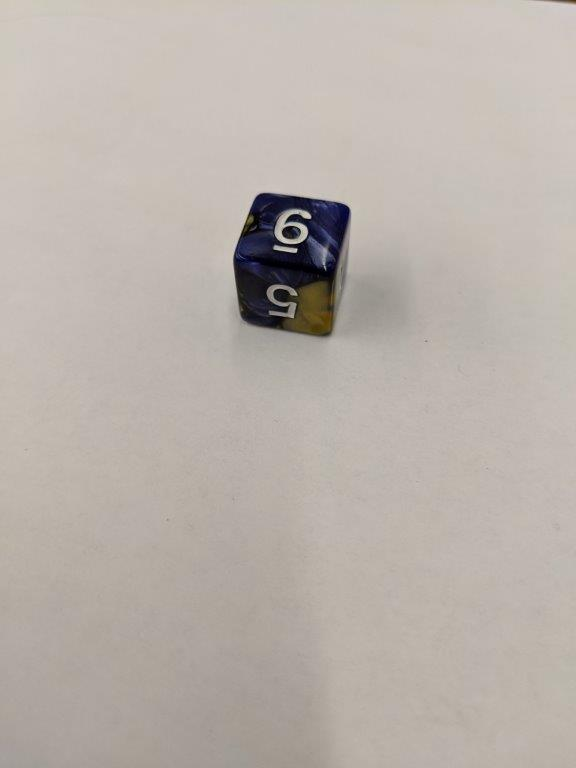d6-6: (232, 191, 351, 339)
